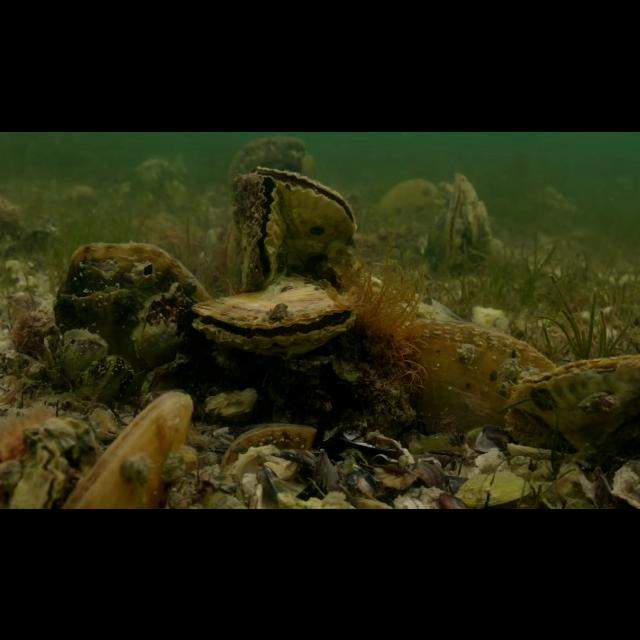Oyster-Closed: (50, 238, 214, 374), (398, 312, 560, 443), (60, 387, 196, 509), (501, 351, 640, 454), (439, 170, 496, 272), (220, 417, 320, 473), (78, 354, 136, 408), (142, 351, 194, 397)
Oyster-Open: (190, 276, 360, 358), (253, 162, 359, 270), (230, 172, 288, 290), (8, 434, 66, 508), (58, 326, 108, 384)
